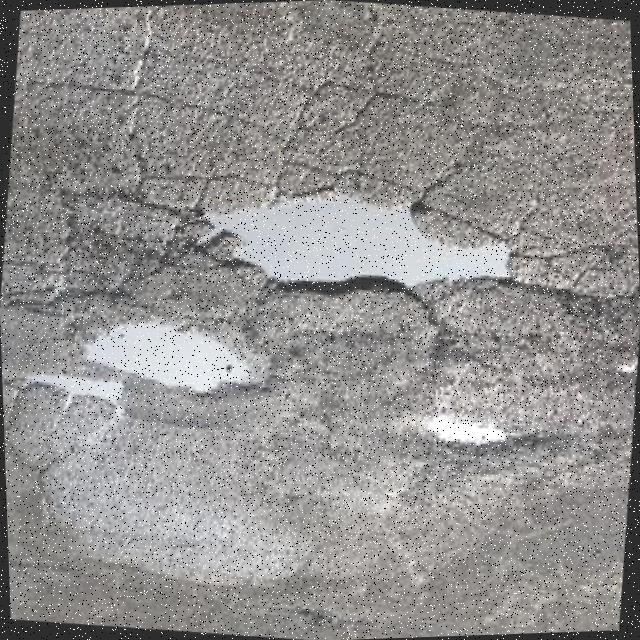Pothole: (207, 193, 510, 294), (84, 319, 264, 390)
